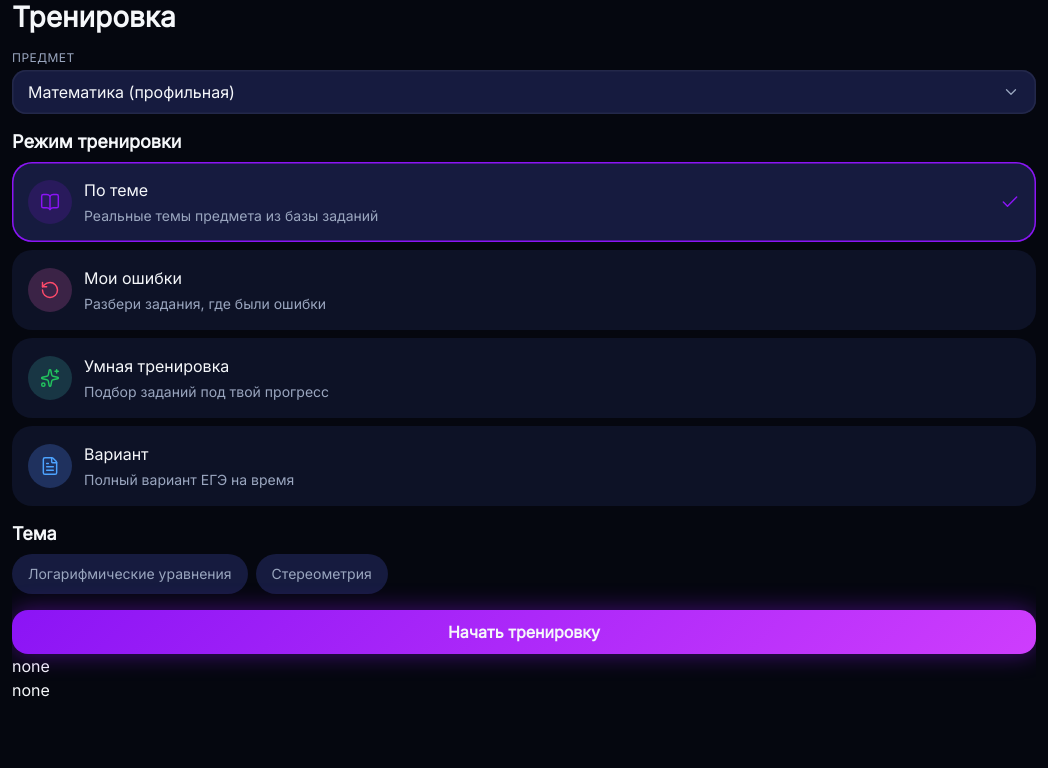
Training — "По теме" (real topics, independent 🎲/🔄, numbers, amount) › starts an "∞ Без ограничения" single task for the selected topic by default
Click the button "Логарифмические уравнения" at {"x": 130, "y": 574}, box [12,554,248,594]
(page scrolled)
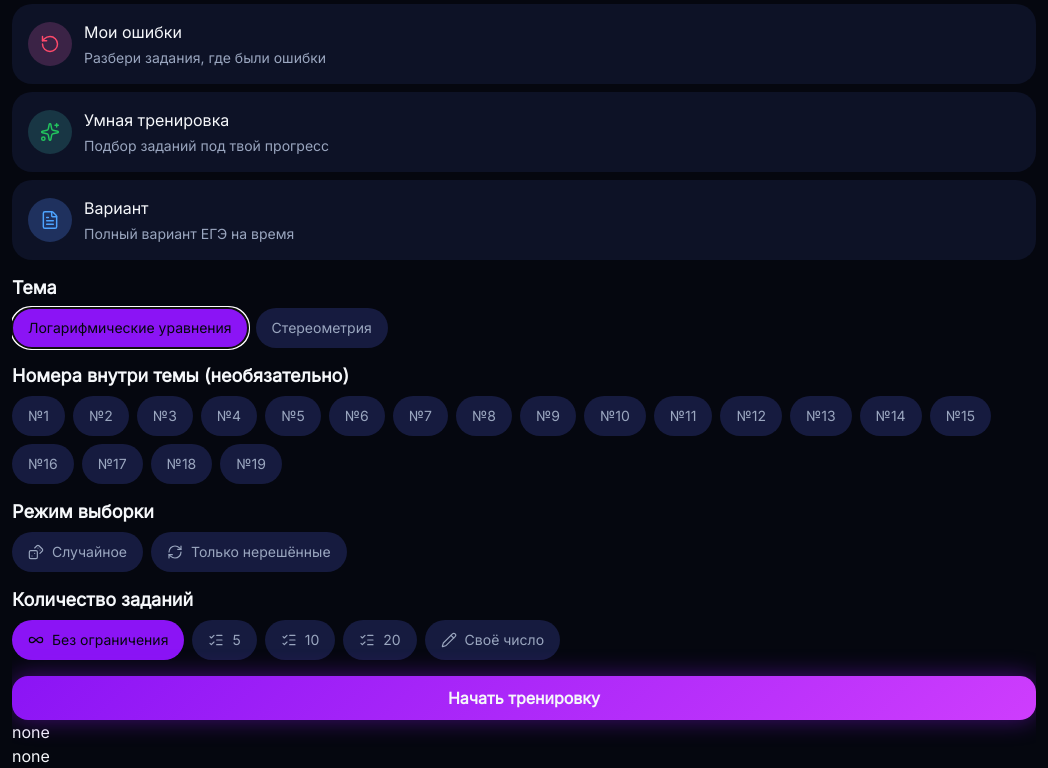
Click the button "Начать тренировку" at {"x": 524, "y": 698}, box [12,676,1036,720]
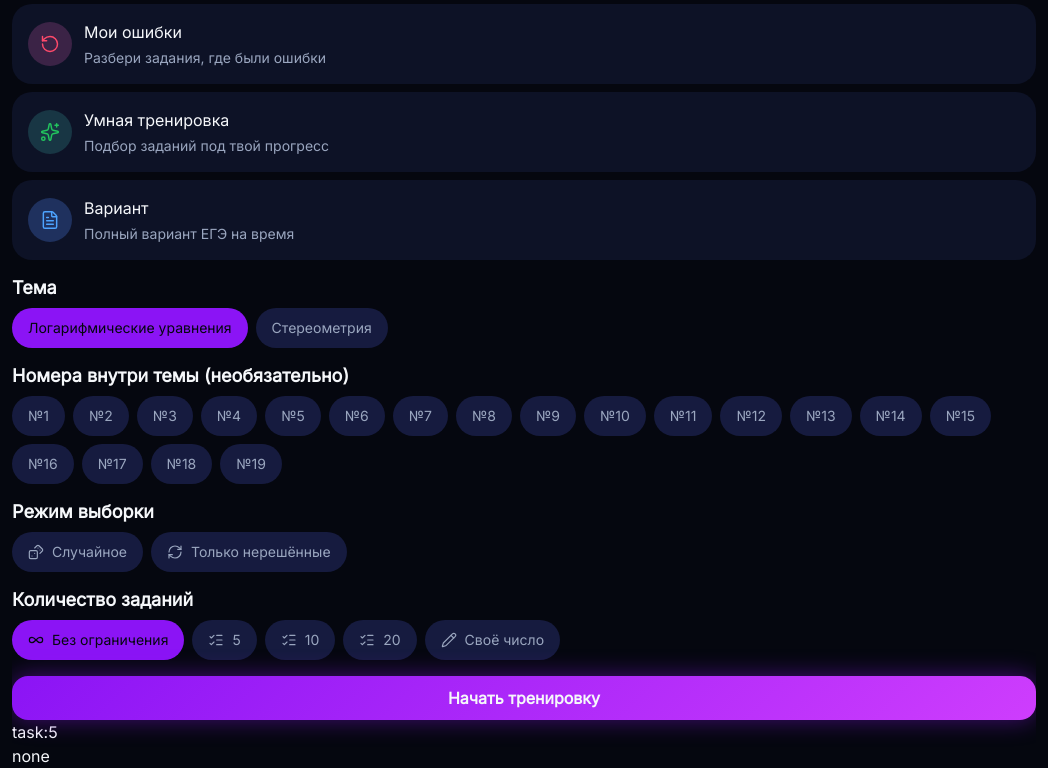
expect the text with test id "overlay" reads "task:5": met, box [12,722,58,742]
